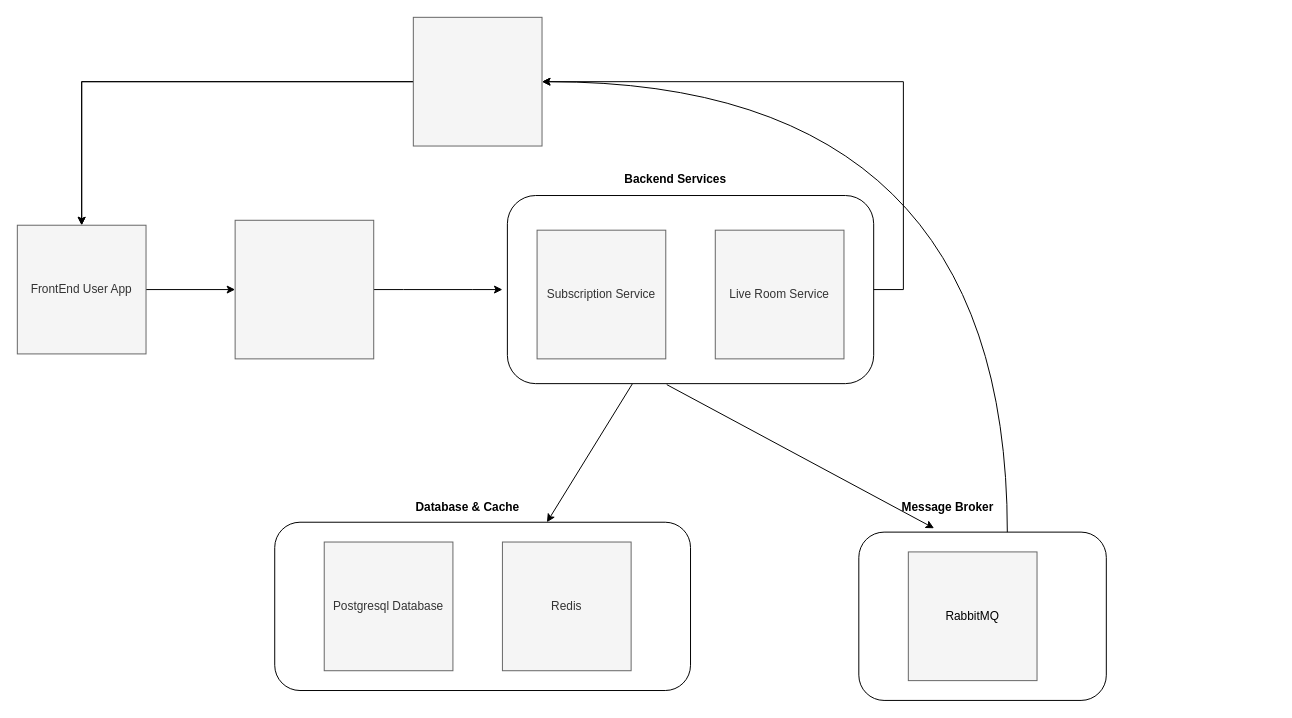
The diagram is 1292 pixels wide and 718 high, and some of its shapes have lost their labels. The shapes that lost their labels are listed below. From the top down, each one's centre as x and y in pixels, then its label:
At pixel 477 81: "websocket-server".
At pixel 304 289: "API Gateway".
